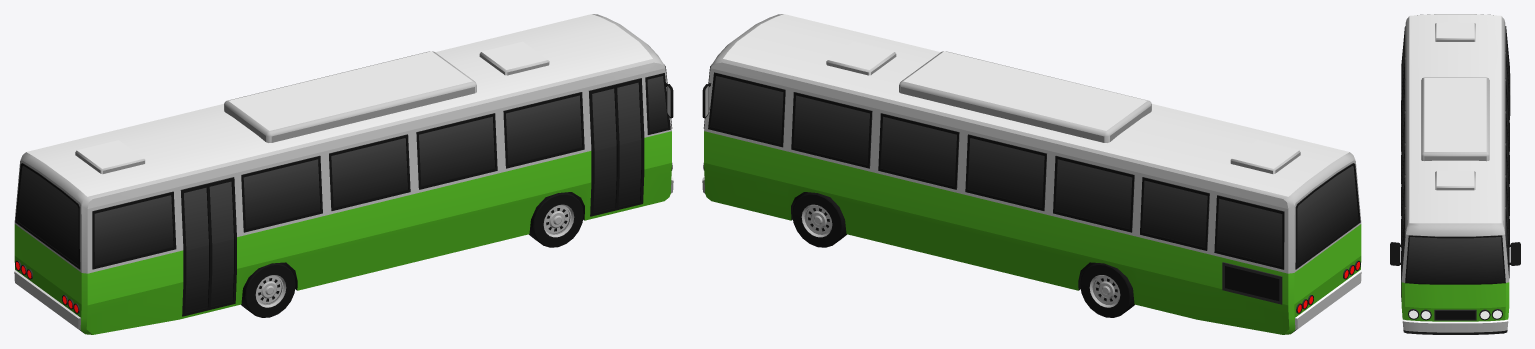
File: Truck_015.glb
3 views of the same model, side by side, from view 1: azimuth 30°, elevation 25°; view 2: azimuth 150°, elevation 25°; view 3: azimuth 270°, elevation 25° (orthographic). The views are drawn at different scales.
Visible parts, largest first — view 1: Truck_015, wheel_1_Truck_015_Wheel_1R, wheel_3_Truck_015_Wheel_2R; view 2: Truck_015, wheel_0_Truck_015_Wheel_1L, wheel_2_Truck_015_Wheel_2L; view 3: Truck_015.
Part boxes in pixels (box(x1,y1,x2,y2)): Truck_015: box(14, 14, 673, 334); wheel_1_Truck_015_Wheel_1R: box(529, 192, 583, 247); wheel_3_Truck_015_Wheel_2R: box(241, 262, 295, 317); Truck_015: box(702, 14, 1361, 334); wheel_0_Truck_015_Wheel_1L: box(792, 192, 846, 247); wheel_2_Truck_015_Wheel_2L: box(1080, 262, 1134, 317); Truck_015: box(1390, 14, 1520, 334).
Size of the model in its own units: 9.41 by 2.59 by 2.37.
2 materials, 2 textured.
